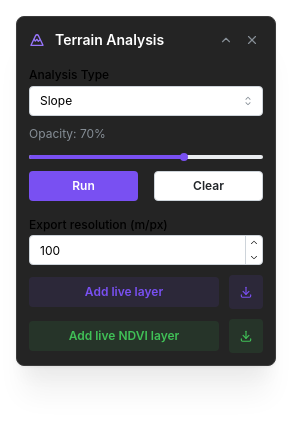
Scenario: TerrainAnalysisPanel export download › shows the server refusal instead of a generic failure
Click the button named "Download GeoTIFF" at (246, 292), box [229,275,263,309]
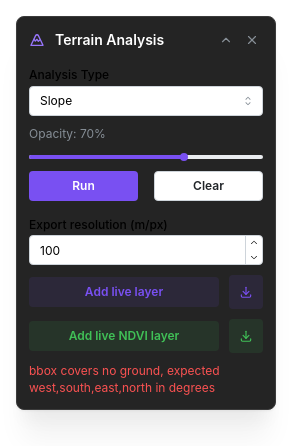
Check: the text "covers no ground" is shown, box [29,363,220,395]
